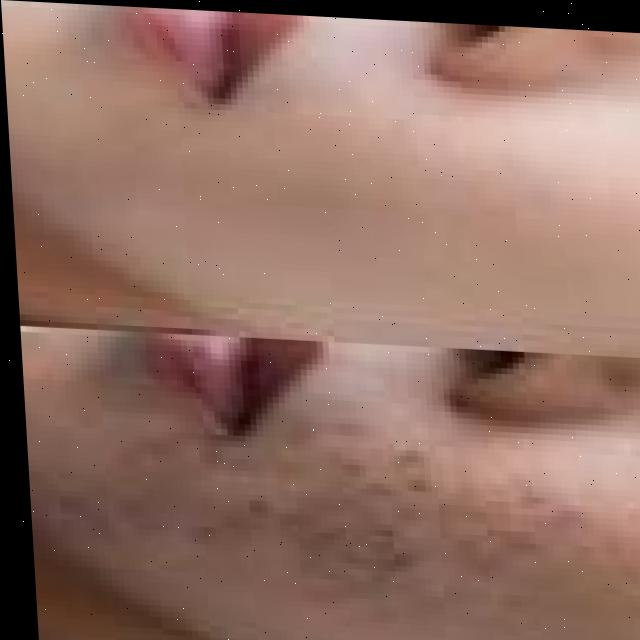Melasma: (229, 433, 546, 609)
